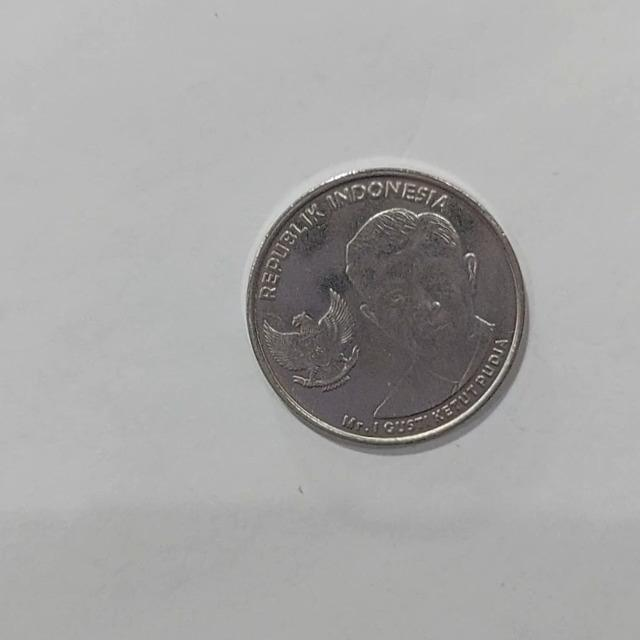Rp100: (245, 163, 528, 449)
